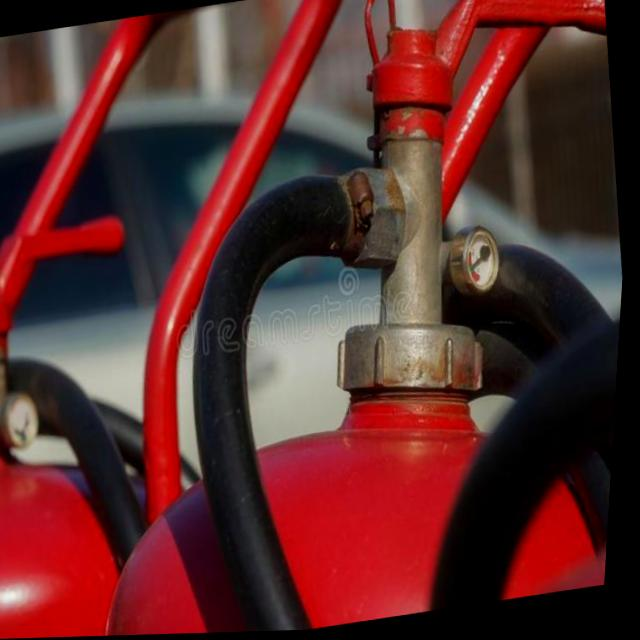FireExtinguisher: (29, 0, 640, 639), (0, 185, 191, 640)
